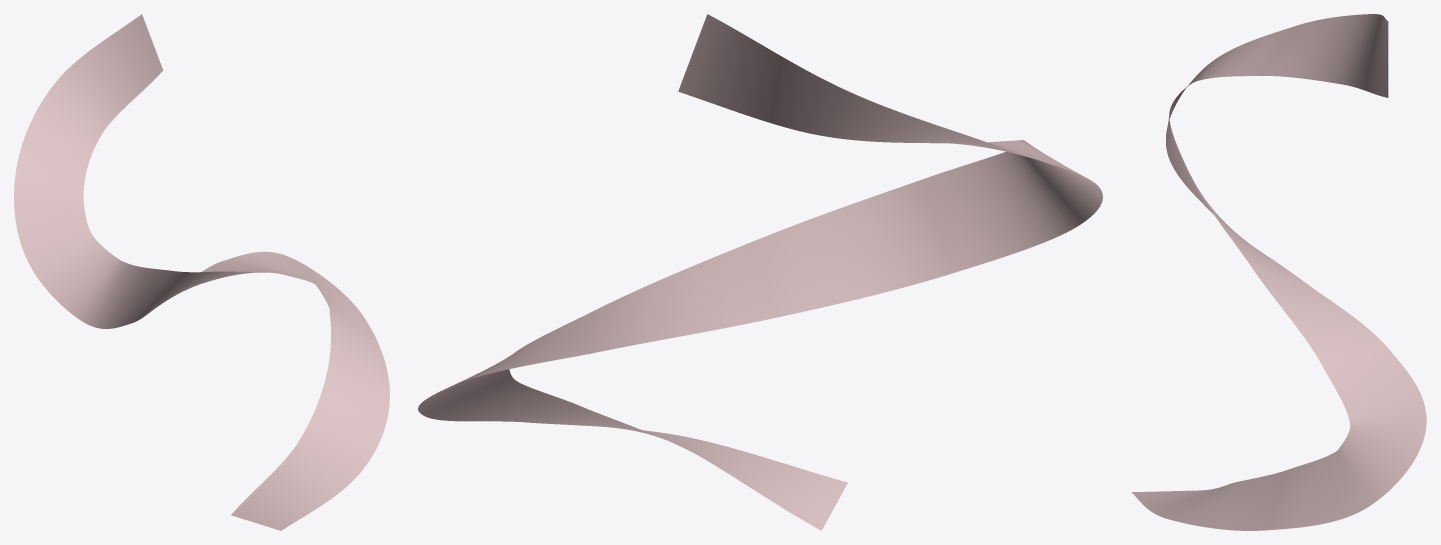
The model's file is abstract-ribbon-001.glb.
3 renders of one model, left to right at view 1: azimuth 30°, elevation 25°; view 2: azimuth 150°, elevation 25°; view 3: azimuth 270°, elevation 25°, orthographic. The views are drawn at different scales.
Visible parts, largest first — view 1: abstract-ribbon-001-0; view 2: abstract-ribbon-001-0; view 3: abstract-ribbon-001-0.
Part boxes in pixels (left/top/right/bottom): abstract-ribbon-001-0: left=14, top=14, right=389, bottom=530; abstract-ribbon-001-0: left=418, top=14, right=1102, bottom=530; abstract-ribbon-001-0: left=1131, top=14, right=1426, bottom=530.
Size of the model in its own units: 2.78 by 2.82 by 1.61.
